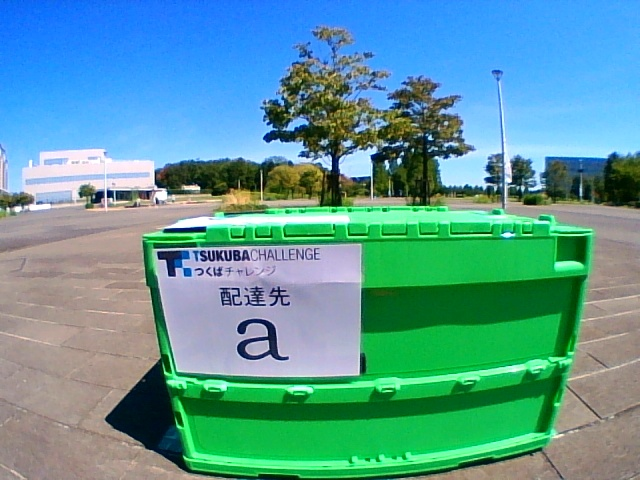green_box: (143, 206, 593, 480)
tag_a: (176, 252, 357, 373)
